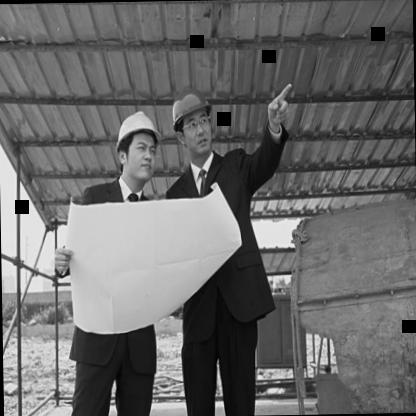helmet: (109, 99, 166, 194), (161, 76, 219, 162)
